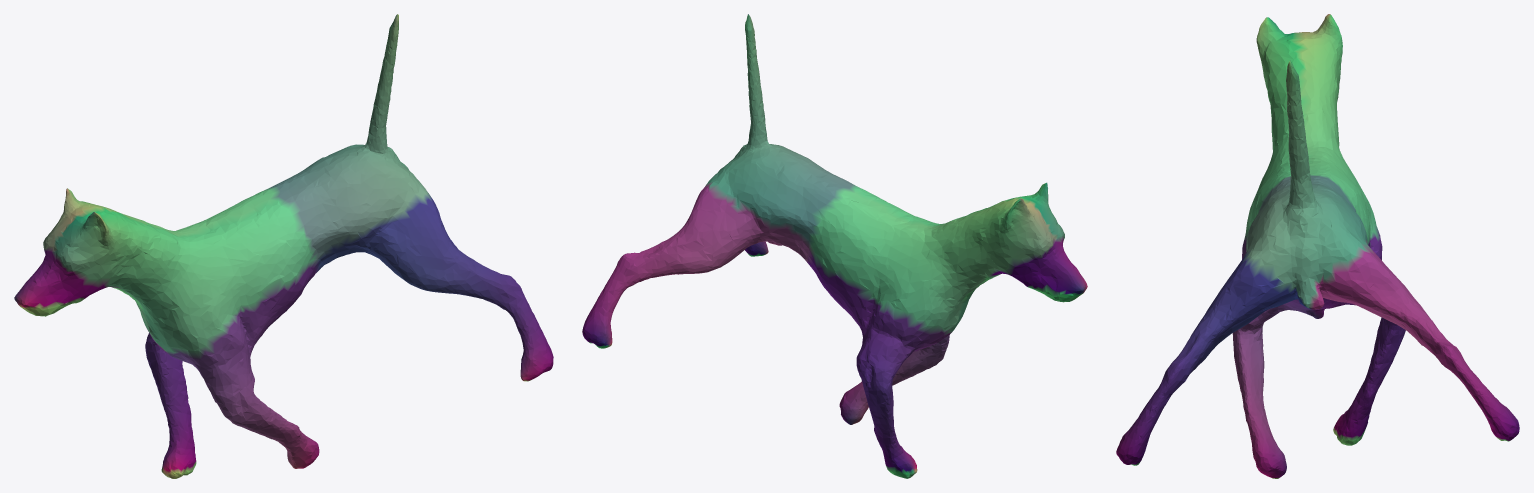
File: dog2-11.off.obj
3 views of the same model, side by side, from view 1: azimuth 30°, elevation 25°; view 2: azimuth 150°, elevation 25°; view 3: azimuth 270°, elevation 25° (orthographic). The views are drawn at different scales.
Size of the model in its own units: 1.54 by 1.4 by 1.05.
